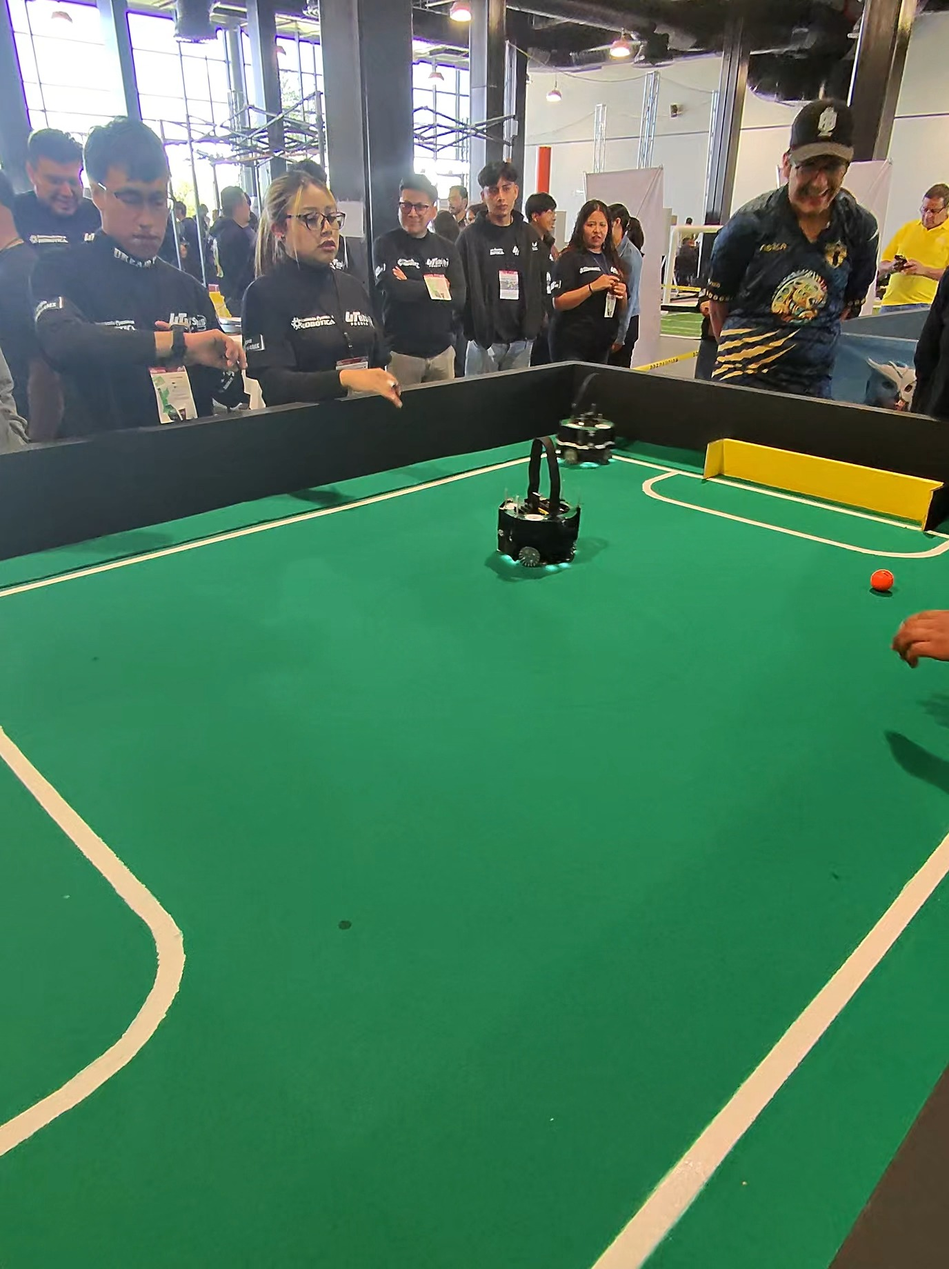Robot: (489, 423, 588, 605), (554, 352, 633, 460)
pelota: (864, 561, 897, 600)
